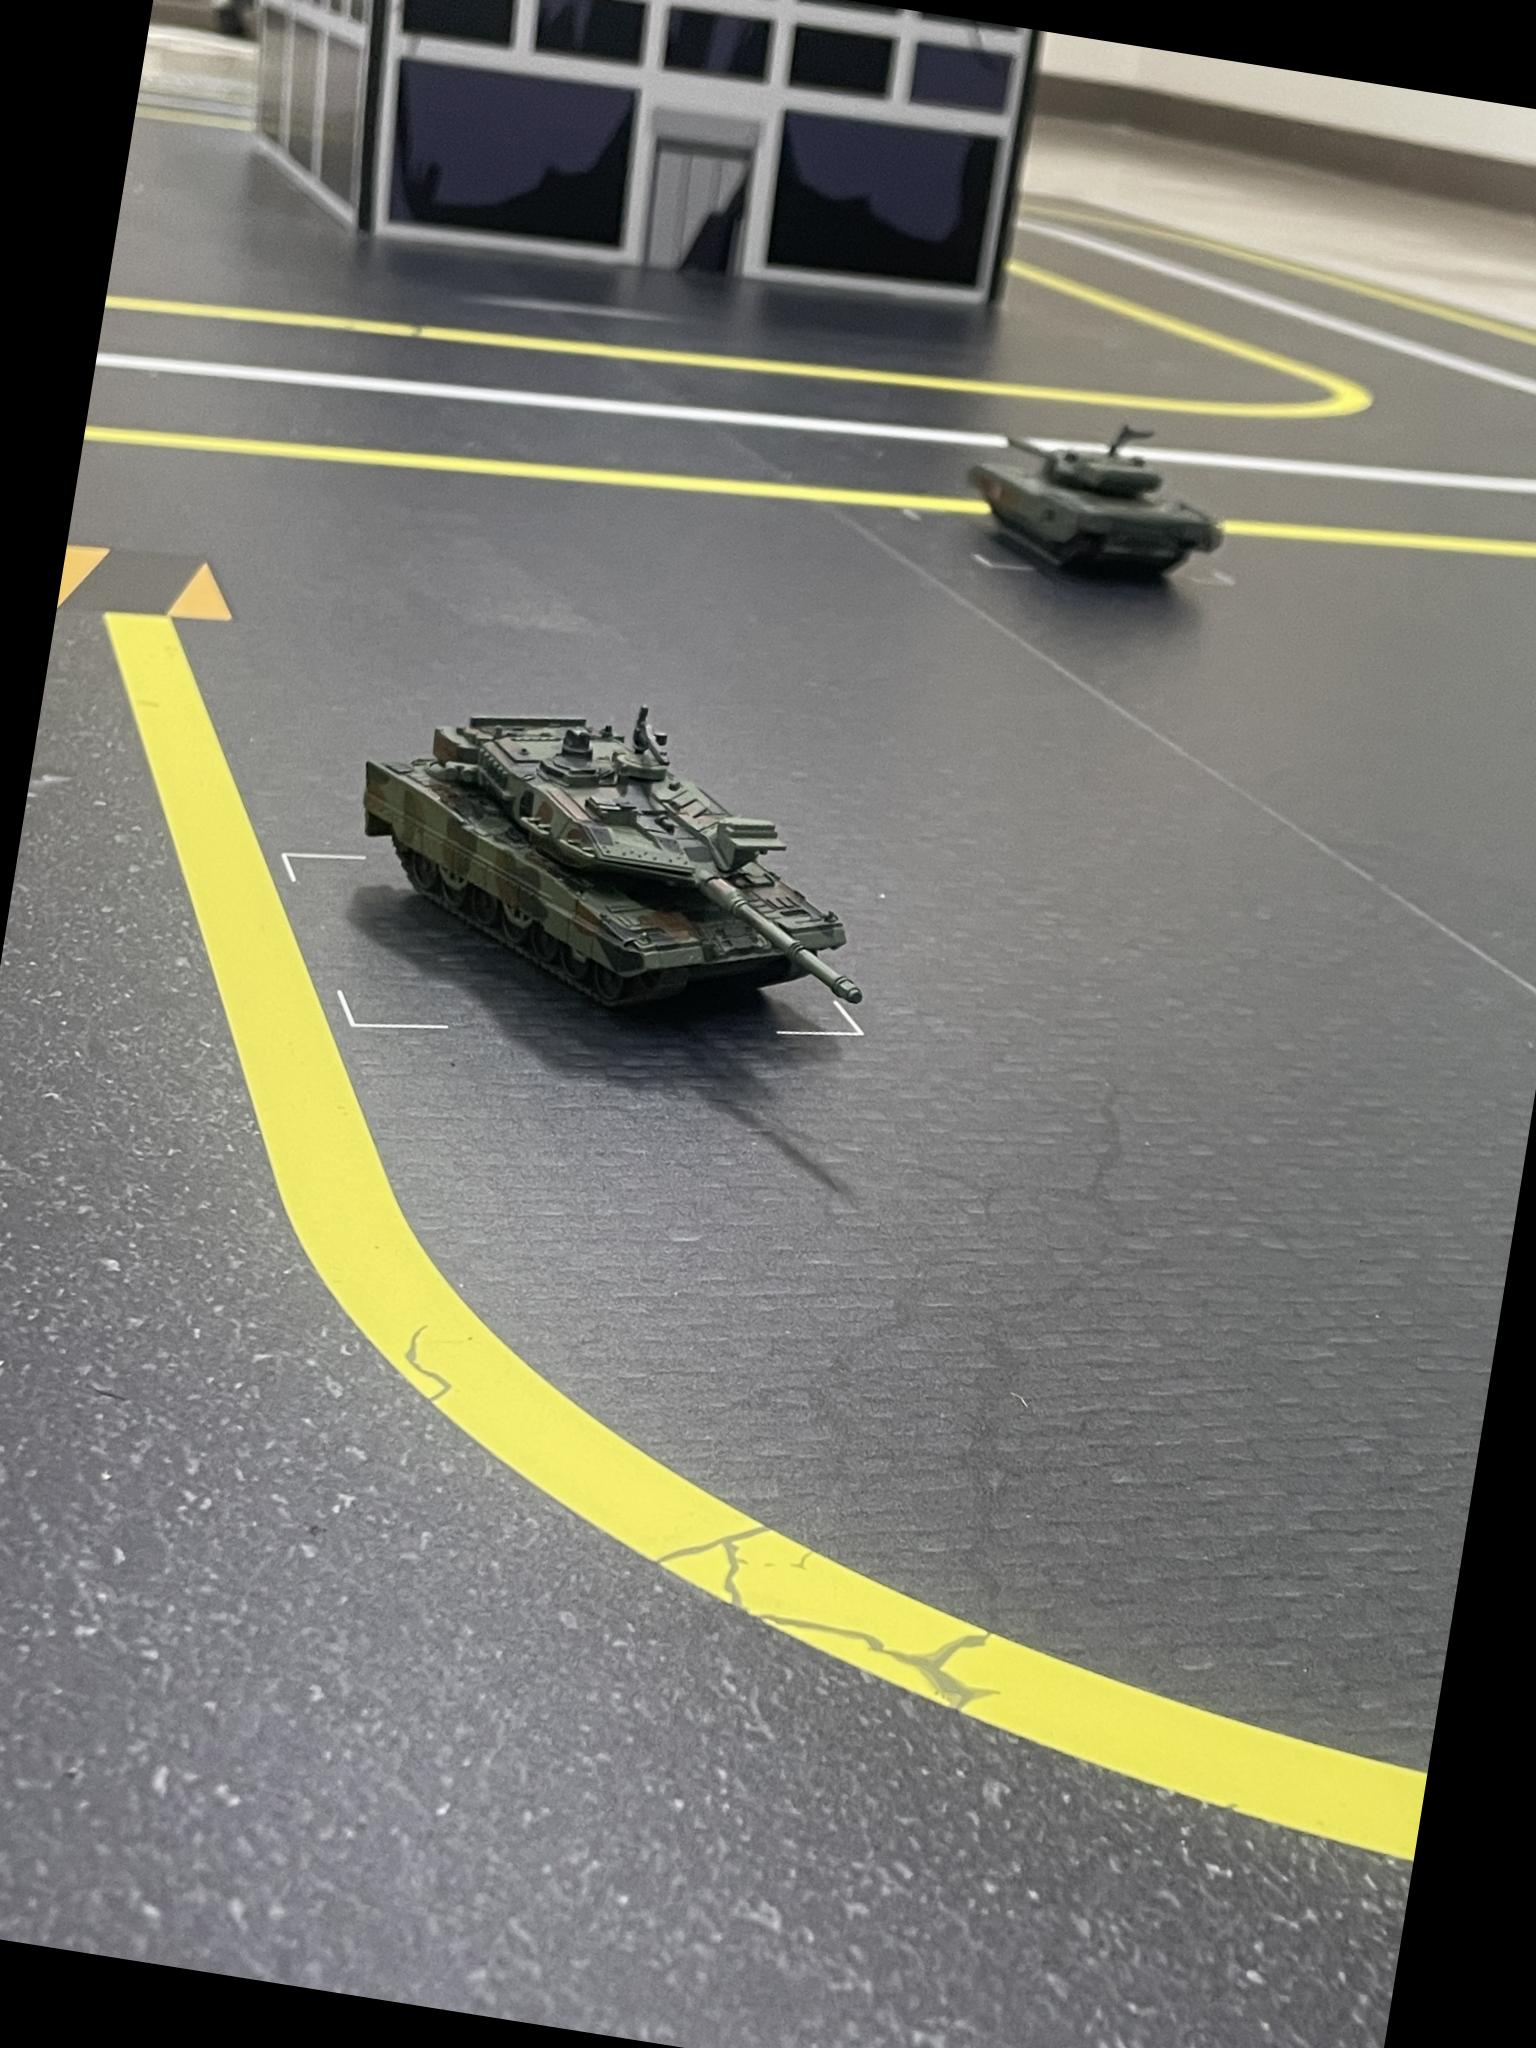Tank: (326, 650, 931, 1071), (949, 390, 1250, 606)
